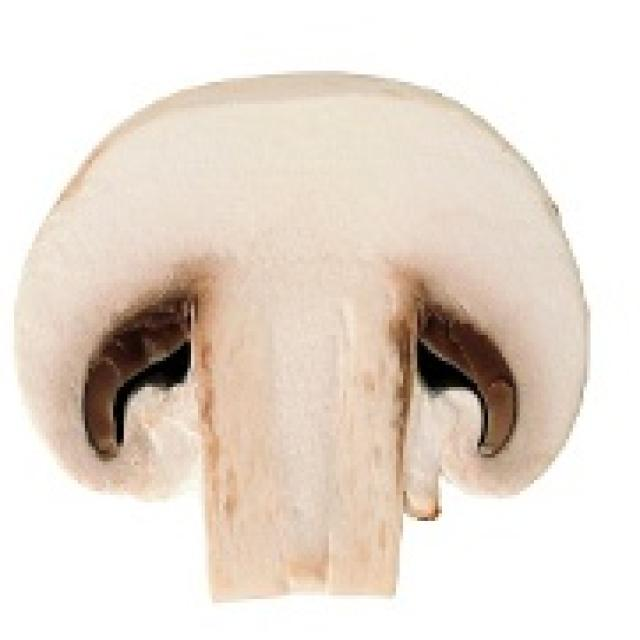mushroom: (3, 60, 587, 618)
